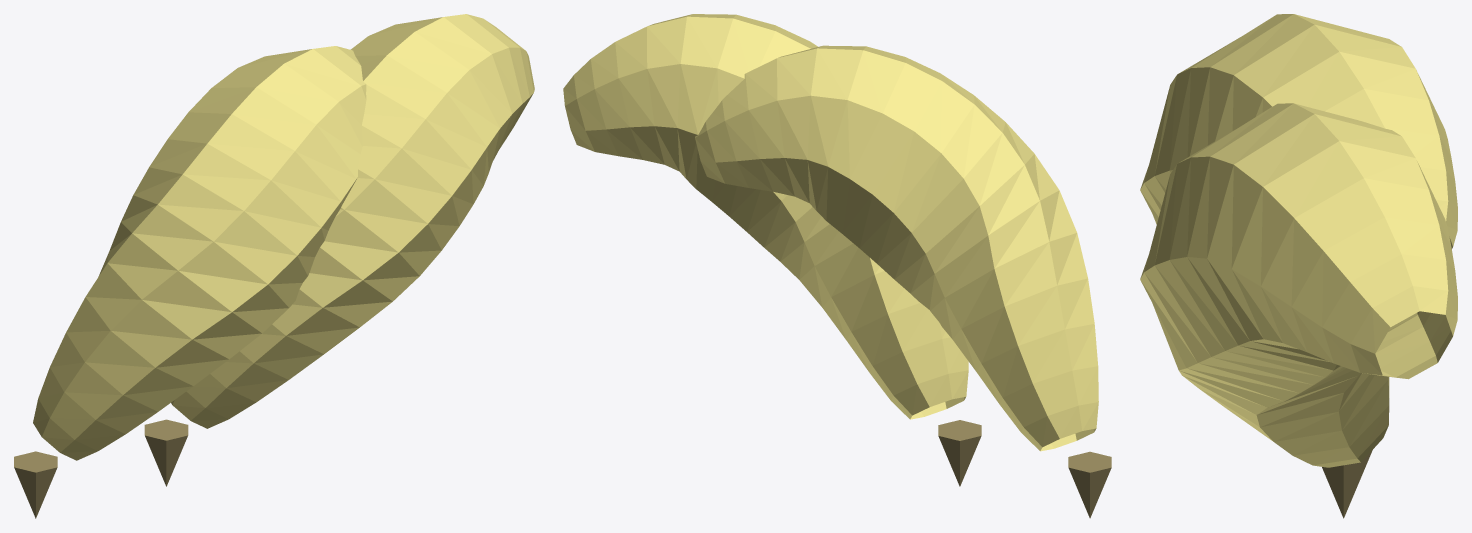
Rendered from 4177_banana.glb.
3 renders of one model, left to right at view 1: azimuth 30°, elevation 25°; view 2: azimuth 150°, elevation 25°; view 3: azimuth 270°, elevation 25°, orthographic. The views are drawn at different scales.
Bounding box in the file's own units: 0.975 × 0.7109 × 0.3606.
